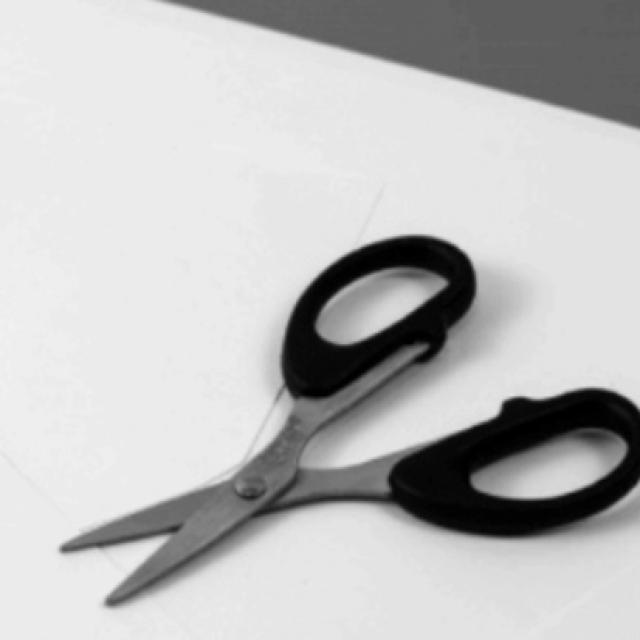tesoura: (62, 236, 639, 603)
